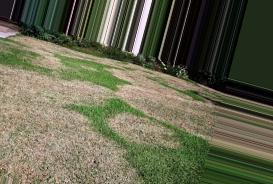patch: (3, 110, 115, 178), (32, 74, 108, 108), (124, 78, 172, 117), (30, 41, 63, 68)
